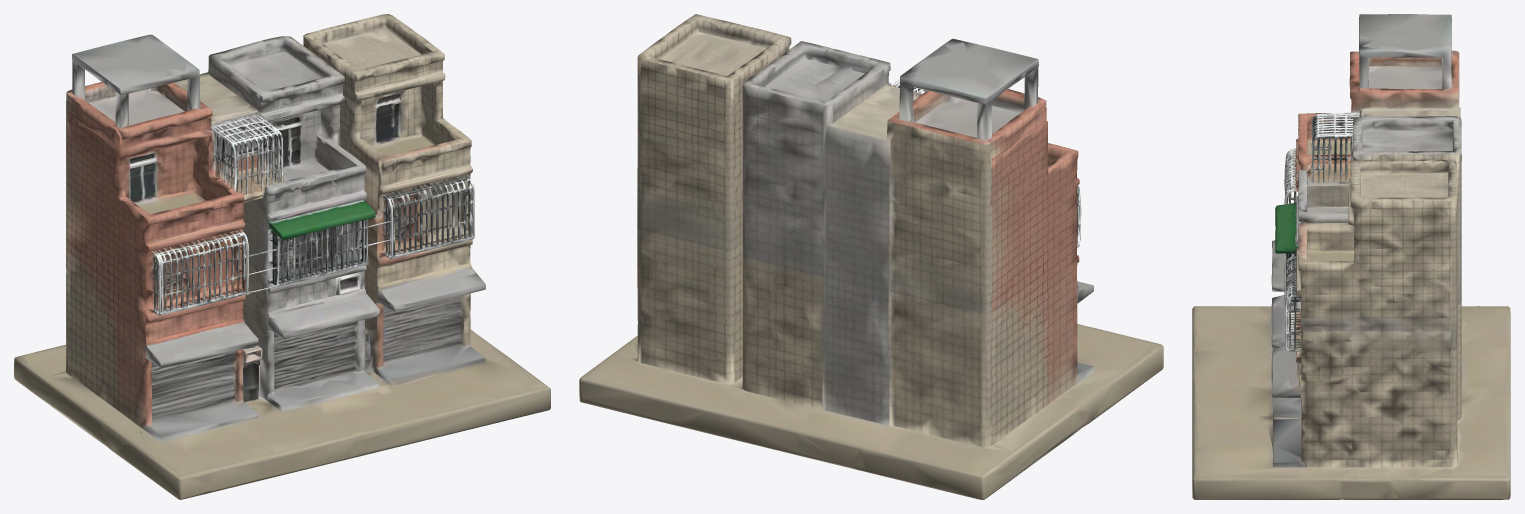
The model's file is homes.glb.
3 renders of one model, left to right at view 1: azimuth 30°, elevation 25°; view 2: azimuth 150°, elevation 25°; view 3: azimuth 270°, elevation 25°, orthographic. The views are drawn at different scales.
Parts seen in each view (by area): view 1: tripo_node_f1042531-82ae-4701-b81d-ceb1bbbf7bf8; view 2: tripo_node_f1042531-82ae-4701-b81d-ceb1bbbf7bf8; view 3: tripo_node_f1042531-82ae-4701-b81d-ceb1bbbf7bf8.
Boxes of the visible parts, x1,y1,x2,y2 form: tripo_node_f1042531-82ae-4701-b81d-ceb1bbbf7bf8: (14,14,550,499); tripo_node_f1042531-82ae-4701-b81d-ceb1bbbf7bf8: (579,14,1163,499); tripo_node_f1042531-82ae-4701-b81d-ceb1bbbf7bf8: (1192,14,1510,499).
Bounding box in the file's own units: 0.4 × 0.3504 × 0.3096.
Materials: 1 (1 with a texture image).
